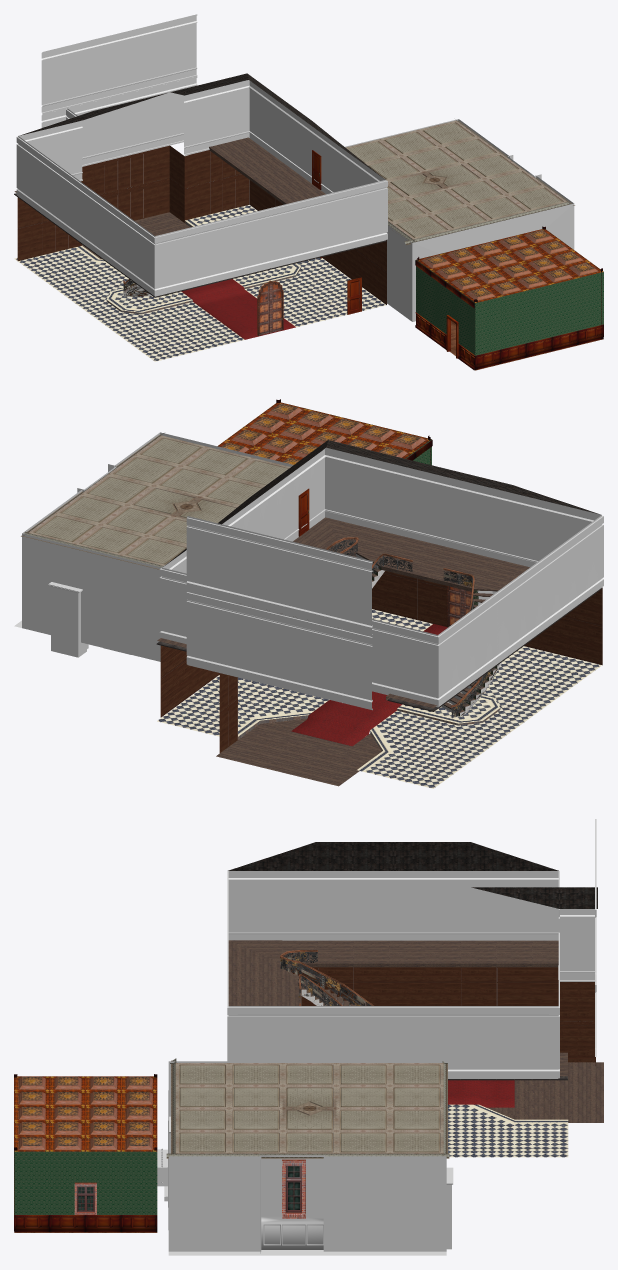
File: MansaoParedes.fbx
3 views of the same model, one above another, from view 1: azimuth 30°, elevation 25°; view 2: azimuth 150°, elevation 25°; view 3: azimuth 270°, elevation 25° (orthographic). The views are drawn at different scales.
Visible parts, largest first — view 1: ParedesHall.001, ParedesHall, ChaoReflexivo, TetoBib, ParedesHall.002, ParedesEscritorio.002, TetoEscritorio, ParedesBib, ChaoHall, MezaninoLateral, TelhadoHall, PortaSalaJantar (+1 smaller); view 2: ParedesHall.001, ParedesHall, ChaoReflexivo, TetoBib, ParedesBib, ParedesHall.002, ChaoHall, TetoEscritorio, MezaninoPrincipal, TelhadoHall, MezaninoLateral, Estantes (+3 smaller); view 3: ParedesHall.001, ParedesBib, TetoBib, ParedesHall.002, ParedesEscritorio.002, TetoEscritorio, MezaninoLateral, TelhadoHall, ChaoHall, ChaoReflexivo, ParedesHall, MezaninoPrincipal (+7 smaller).
Part boxes in pixels (bbox=[...]): ParedesHall.001: bbox=[16, 80, 387, 296]; ParedesHall: bbox=[41, 14, 197, 166]; ChaoReflexivo: bbox=[14, 205, 385, 361]; TetoBib: bbox=[345, 120, 574, 245]; ParedesHall.002: bbox=[17, 145, 386, 304]; ParedesEscritorio.002: bbox=[415, 236, 603, 370]; TetoEscritorio: bbox=[416, 229, 603, 302]; ParedesBib: bbox=[345, 119, 574, 321]; ChaoHall: bbox=[82, 212, 301, 339]; MezaninoLateral: bbox=[14, 137, 386, 297]; TelhadoHall: bbox=[20, 73, 383, 178]; PortaSalaJantar: bbox=[257, 280, 283, 335]; ParedesHall.001: bbox=[159, 447, 603, 707]; ParedesHall: bbox=[186, 516, 372, 710]; ChaoReflexivo: bbox=[157, 609, 601, 788]; TetoBib: bbox=[21, 433, 290, 569]; ParedesBib: bbox=[22, 432, 293, 661]; ParedesHall.002: bbox=[160, 571, 602, 752]; ChaoHall: bbox=[216, 624, 500, 786]; TetoEscritorio: bbox=[218, 402, 431, 464]; MezaninoPrincipal: bbox=[345, 528, 529, 591]; TelhadoHall: bbox=[163, 440, 599, 566]; MezaninoLateral: bbox=[156, 517, 602, 711]; Estantes: bbox=[48, 582, 88, 657]; ParedesHall.001: bbox=[227, 870, 559, 1078]; ParedesBib: bbox=[157, 1061, 446, 1253]; TetoBib: bbox=[166, 1058, 449, 1158]; ParedesHall.002: bbox=[291, 967, 595, 1065]; ParedesEscritorio.002: bbox=[14, 1091, 157, 1232]; TetoEscritorio: bbox=[14, 1076, 157, 1151]; MezaninoLateral: bbox=[228, 940, 567, 1080]; TelhadoHall: bbox=[228, 842, 597, 908]; ChaoHall: bbox=[448, 1062, 603, 1122]; ChaoReflexivo: bbox=[448, 1104, 568, 1157]; ParedesHall: bbox=[560, 819, 596, 1056]; MezaninoPrincipal: bbox=[228, 963, 301, 1005].
Bounding box in the file's own units: 31.26 × 33.01 × 14.77.
